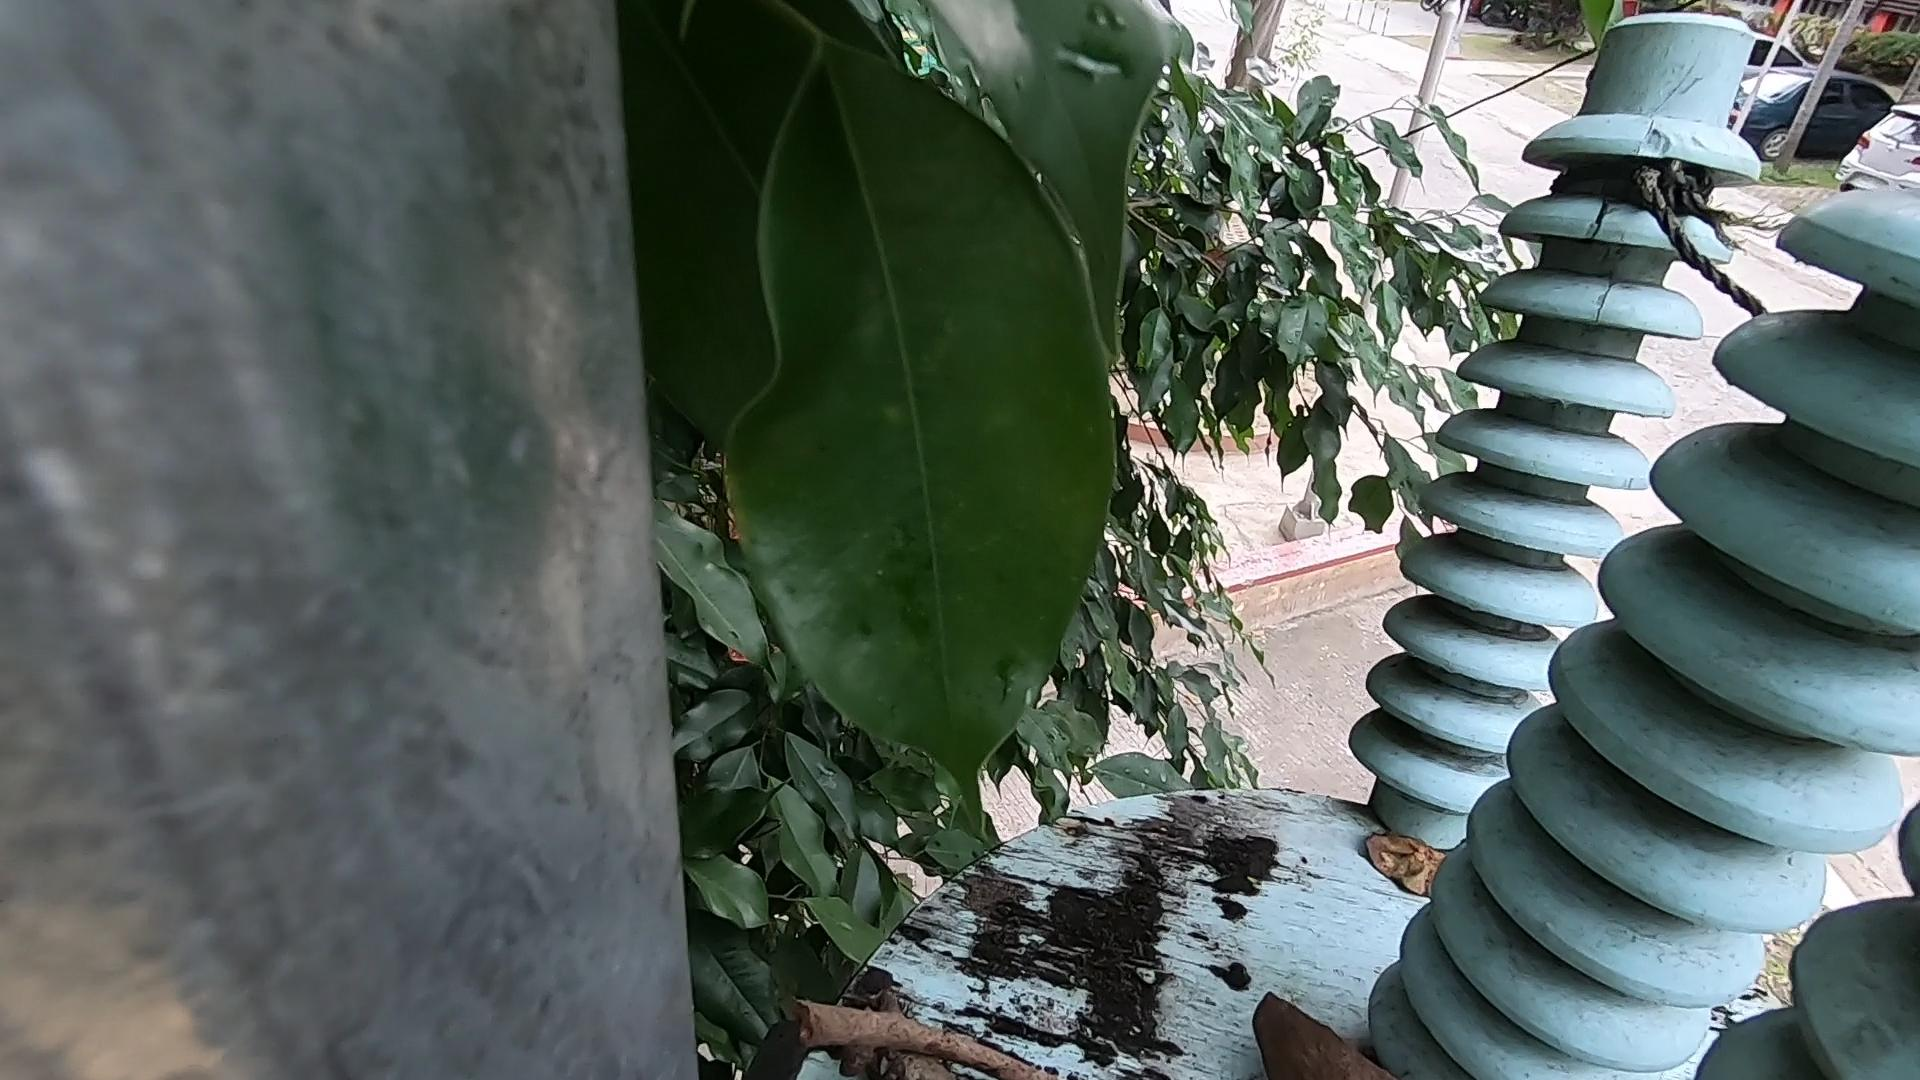branch with leaves: (851, 975, 967, 1080)
leaf: (1346, 814, 1576, 944)
mahogany fruit: (1240, 963, 1432, 1080)
tree branch: (779, 1001, 1059, 1080)
